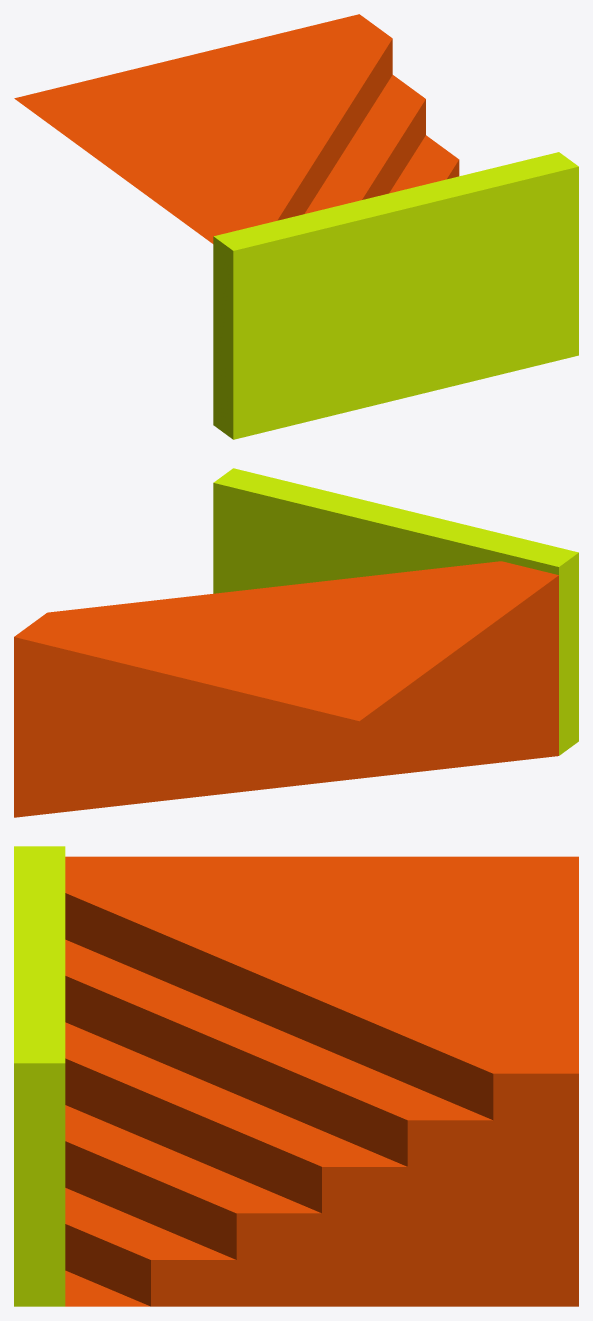
3 renders of one model, top to bottom at view 1: azimuth 30°, elevation 25°; view 2: azimuth 150°, elevation 25°; view 3: azimuth 270°, elevation 25°, orthographic. The views are drawn at different scales.
Visible parts, largest first — view 1: T_7_d_0; view 2: T_7_d_0; view 3: T_7_d_0.
Part boxes in pixels (x1,y1,x2,y2): T_7_d_0: (14, 14, 578, 439); T_7_d_0: (14, 468, 578, 817); T_7_d_0: (14, 846, 578, 1306).
Size of the model in its own units: 99.81 by 52.14 by 110.
